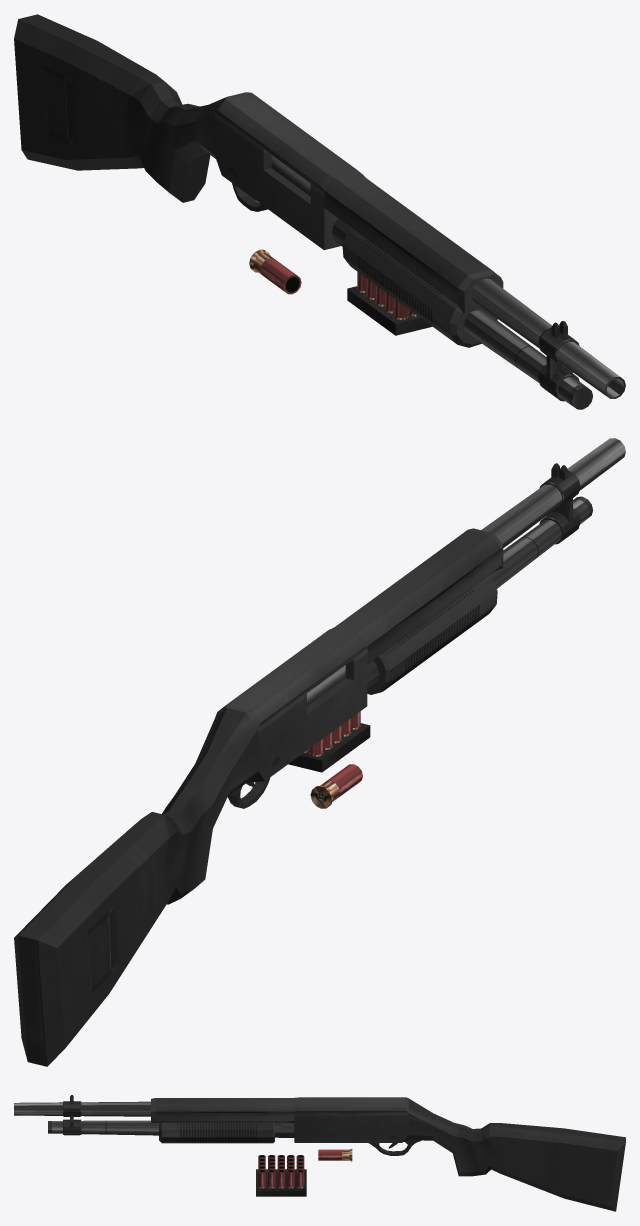
Rendered from SHOOTGUN.fbx.
The picture shows the model from 3 angles, top to bottom: view 1: azimuth 30°, elevation 25°; view 2: azimuth 150°, elevation 25°; view 3: azimuth 270°, elevation 25°; orthographic projection. The views are drawn at different scales.
Visible parts, largest first — view 1: Cylinder.001, Cylinder.004, Cylinder.006, Cylinder.007; view 2: Cylinder.001, Cylinder.004, Cylinder.006, Cylinder.007; view 3: Cylinder.001, Cylinder.004, Cylinder.006, Cylinder.007.
Part boxes in pixels (<box>): Cylinder.001: <box>14,14,625,409</box>; Cylinder.004: <box>342,228,497,347</box>; Cylinder.006: <box>347,272,432,335</box>; Cylinder.007: <box>249,249,301,294</box>; Cylinder.001: <box>14,438,625,1066</box>; Cylinder.004: <box>367,575,497,694</box>; Cylinder.006: <box>288,711,370,772</box>; Cylinder.007: <box>310,764,362,808</box>; Cylinder.001: <box>14,1095,625,1211</box>; Cylinder.004: <box>159,1122,274,1143</box>; Cylinder.006: <box>256,1155,306,1196</box>; Cylinder.007: <box>318,1148,352,1161</box>.
Size of the model in its own units: 42.05 by 63.41 by 311.
Materials: 3 (3 with a texture image).
